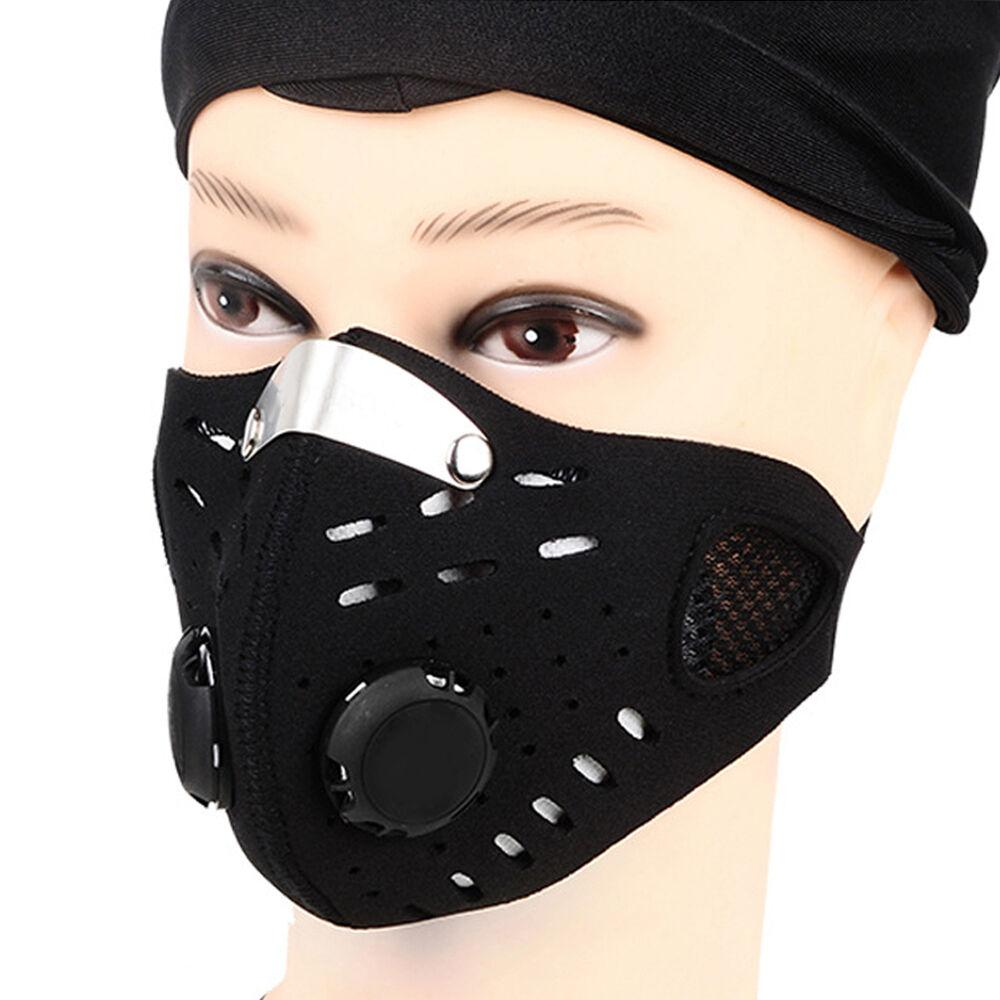Wearing Mask: (37, 0, 1000, 1000)
